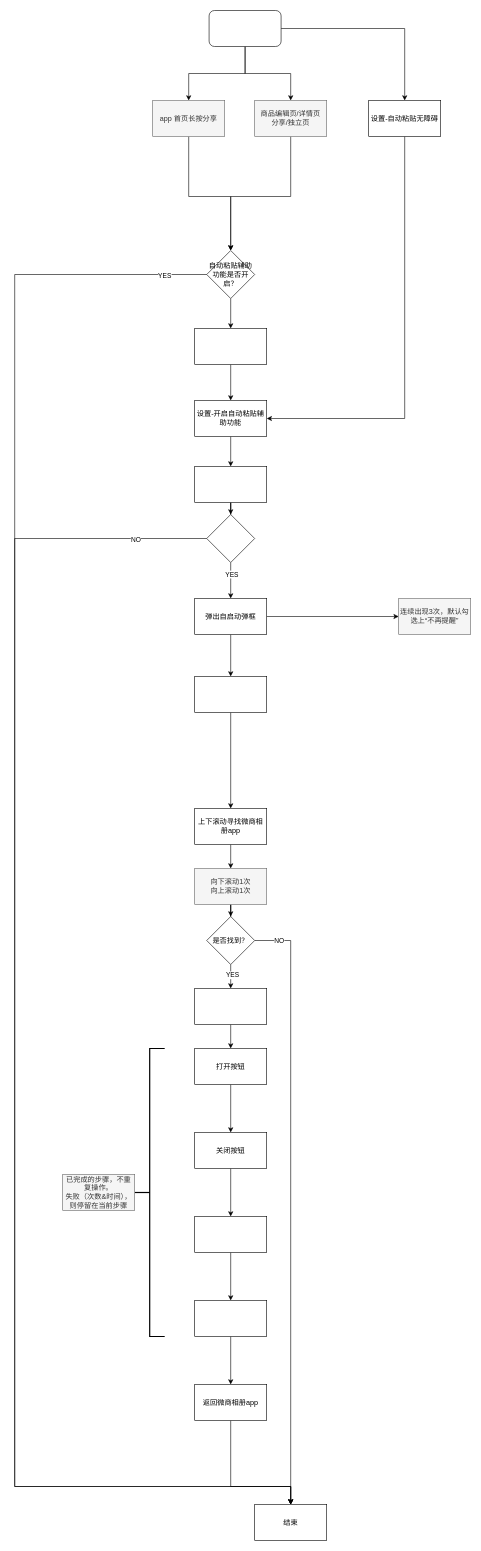
The diagram is 481 pixels wide and 1551 high, and some of its shapes have lost their labels. The shapes that lost their labels are listed below. From the top down, each one's centre as x and y in pixels, then its label:
the point at 244,28: 开始
the point at 230,346: 自动粘贴辅助功能弹框
the point at 230,484: 回到app界面
the point at 230,538: 检测自动粘贴辅助功能是否开启
the point at 230,694: 进入自启动设置页
the point at 230,1006: 定位应用
the point at 230,1234: 允许自启动 允许关联启动 运行后台启动
the point at 230,1318: 点击 确定
